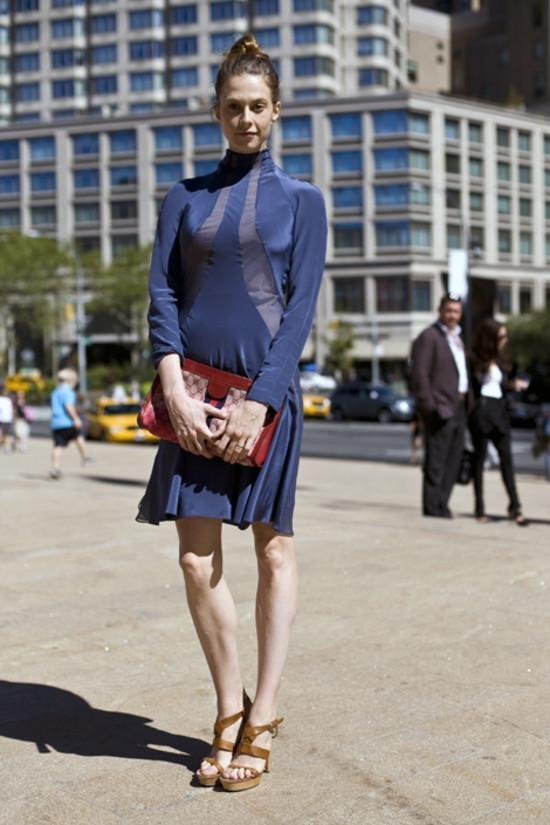dress: (135, 150, 324, 542)
